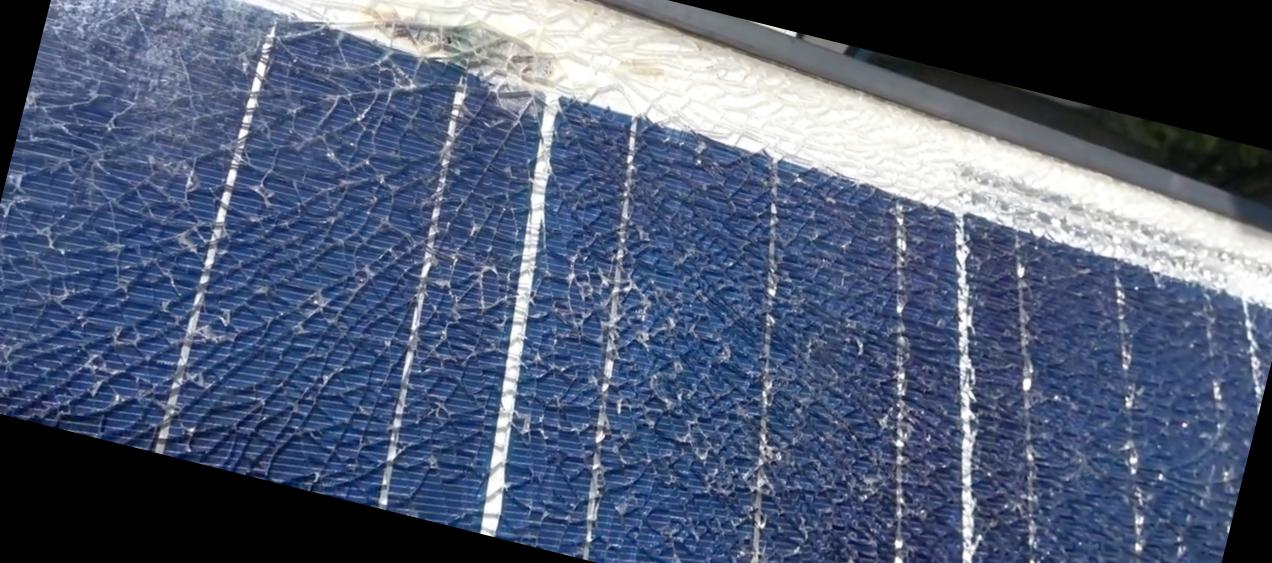Crack: (0, 0, 638, 546), (562, 131, 1271, 562), (211, 0, 675, 346), (482, 215, 840, 559)
